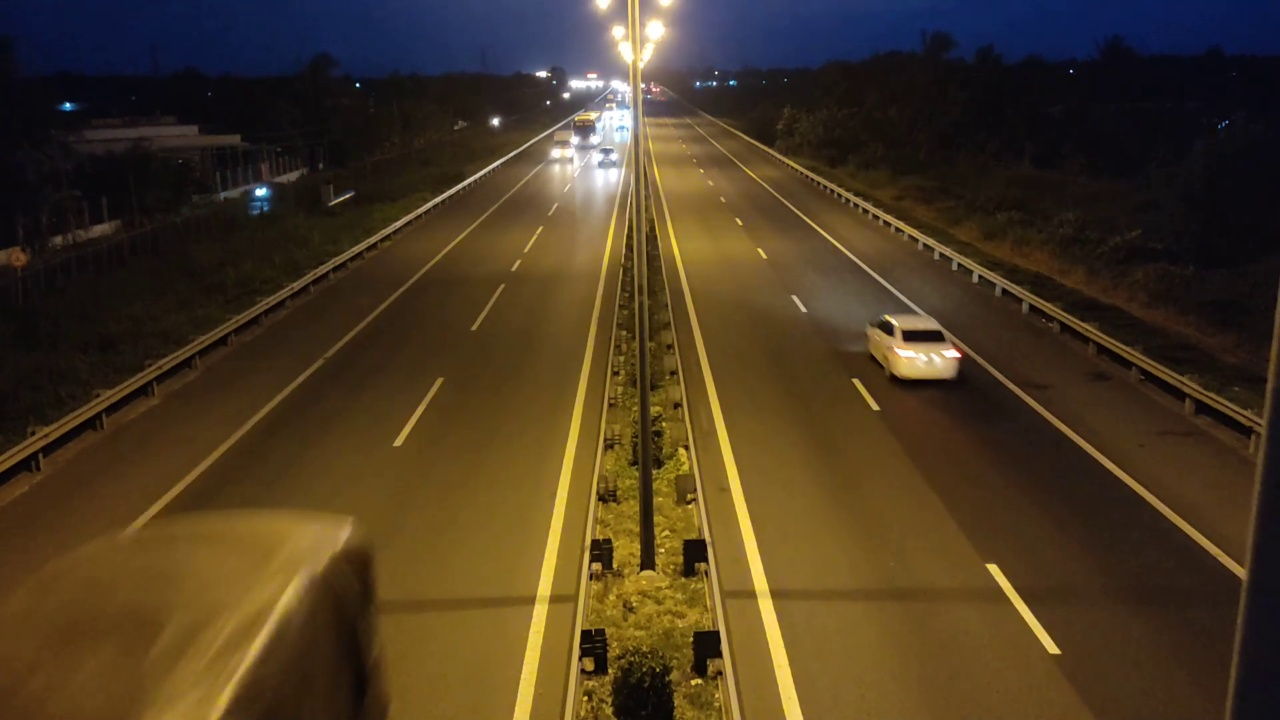car: (865, 312, 963, 381)
